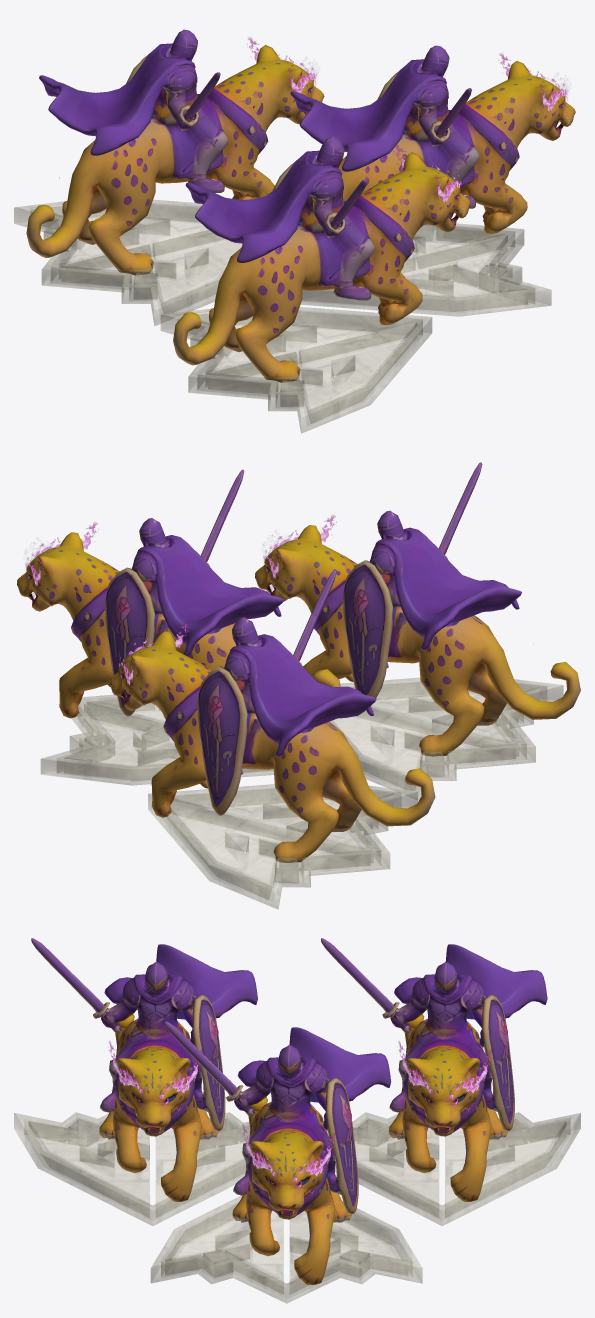
Rendered from ypanther.glb.
3 renders of one model, top to bottom at view 1: azimuth 30°, elevation 25°; view 2: azimuth 150°, elevation 25°; view 3: azimuth 270°, elevation 25°, orthographic.
Parts seen in each view (by area): view 1: PaladinYP; view 2: PaladinYP; view 3: PaladinYP.
Boxes of the visible parts, box(x1,y1,x2,y2) form: PaladinYP: box(14, 29, 575, 433); PaladinYP: box(17, 462, 580, 909); PaladinYP: box(14, 938, 580, 1303).
Size of the model in its own units: 1.56 by 0.707 by 1.6.
4 materials, 4 textured.
